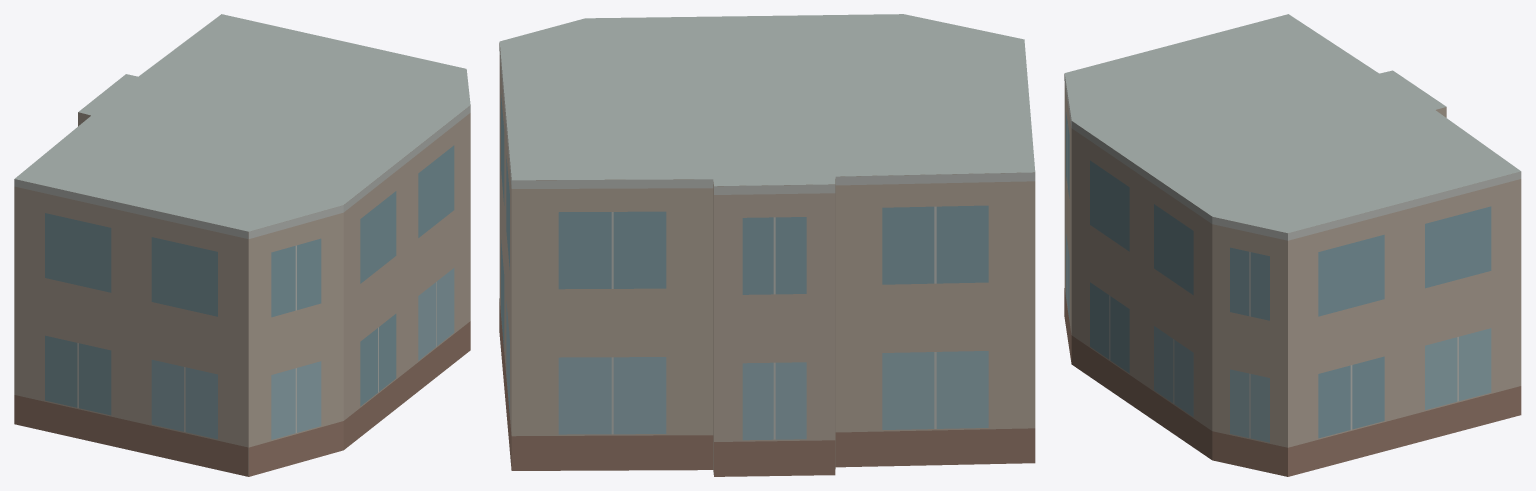
File: survey-upis-32954773.glb
The picture shows the model from 3 angles, left to right: view 1: azimuth 30°, elevation 25°; view 2: azimuth 150°, elevation 25°; view 3: azimuth 270°, elevation 25°; orthographic projection. The views are drawn at different scales.
Visible parts, largest first — view 1: survey-upis-32954773.tmp; view 2: survey-upis-32954773.tmp; view 3: survey-upis-32954773.tmp.
Boxes of the visible parts, x1,y1,x2,y2 form: survey-upis-32954773.tmp: [14, 14, 470, 476]; survey-upis-32954773.tmp: [499, 14, 1035, 476]; survey-upis-32954773.tmp: [1064, 14, 1521, 476].
Bounding box in the file's own units: 15.35 × 7.95 × 13.52.
